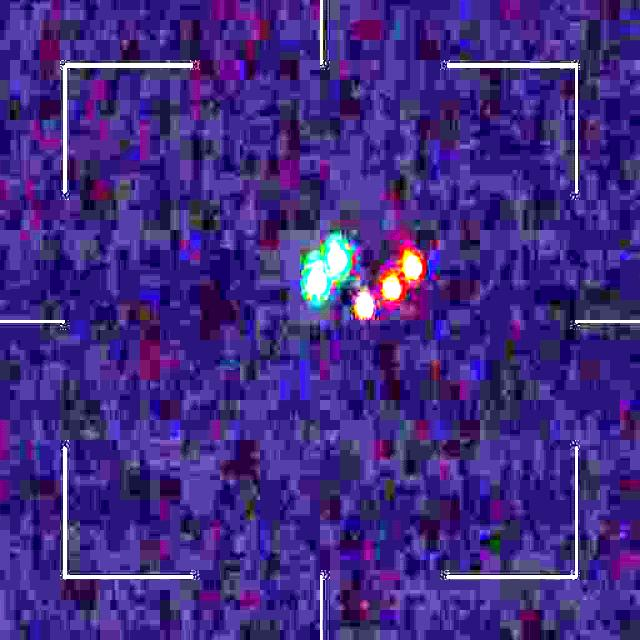bird: (304, 241, 422, 319)
